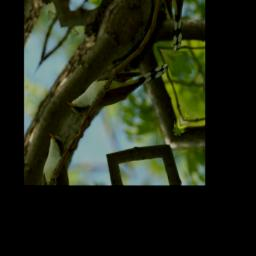Cuckoo: (64, 22, 169, 149)
